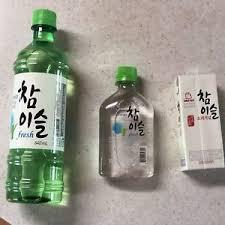soju: (6, 8, 67, 205), (98, 65, 155, 179), (170, 71, 223, 171)
